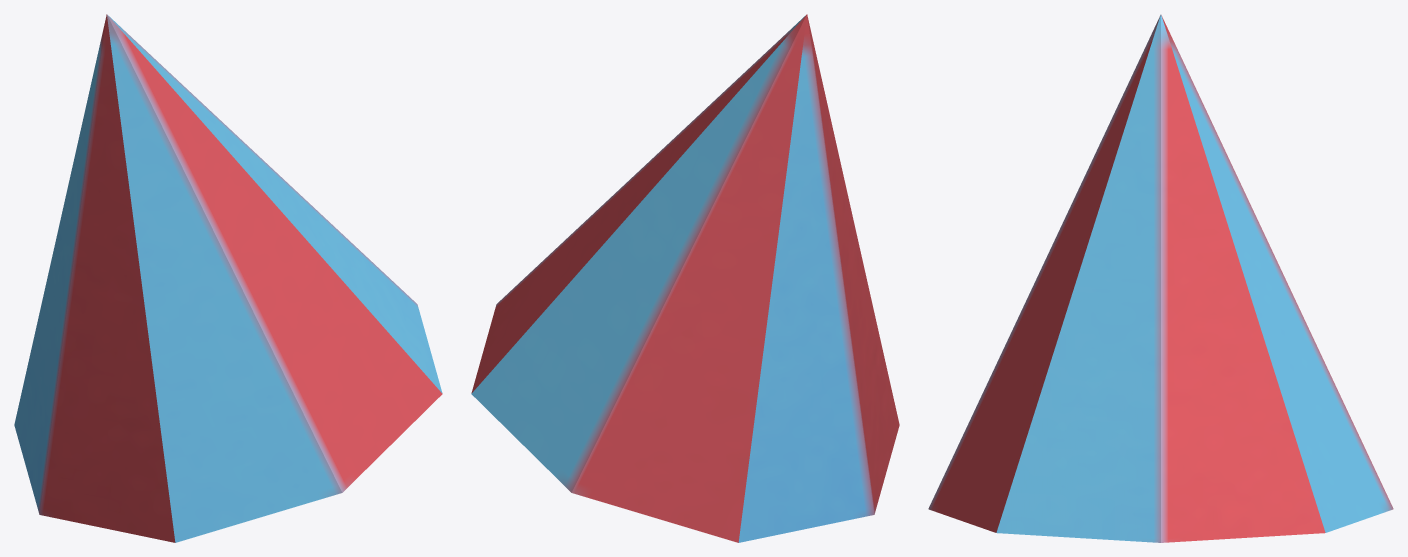
3 renders of one model, left to right at view 1: azimuth 30°, elevation 25°; view 2: azimuth 150°, elevation 25°; view 3: azimuth 270°, elevation 25°, orthographic. The views are drawn at different scales.
Visible parts, largest first — view 1: Cone; view 2: Cone; view 3: Cone.
Part boxes in pixels (box(x1,y1,x2,y2)): Cone: box(14, 14, 442, 542); Cone: box(471, 14, 899, 542); Cone: box(928, 14, 1393, 542).
Size of the model in its own units: 115 by 120 by 141.
1 material, 1 textured.
